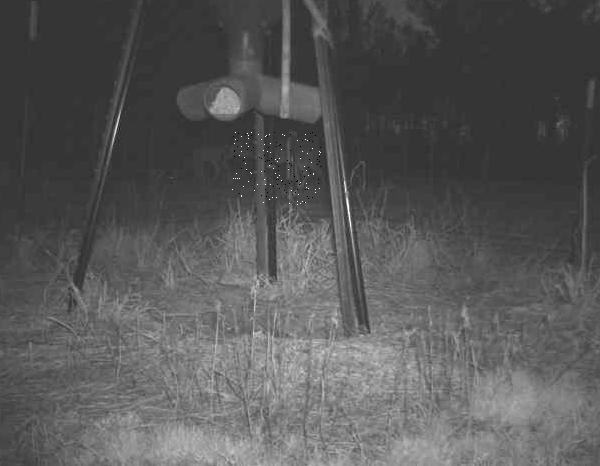Deer: (232, 132, 322, 205)
